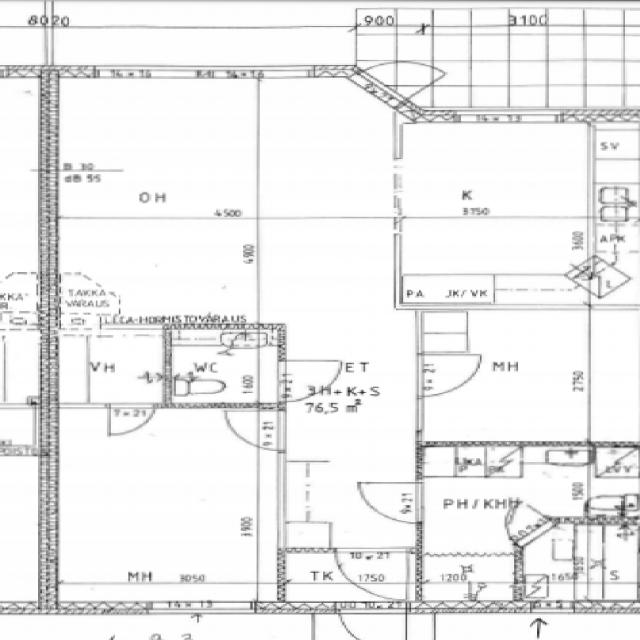door: (350, 43, 448, 108), (335, 549, 406, 600), (482, 500, 554, 547), (416, 355, 485, 397), (277, 362, 346, 402), (355, 484, 423, 523), (339, 602, 406, 640), (219, 412, 284, 451), (110, 404, 154, 437)
